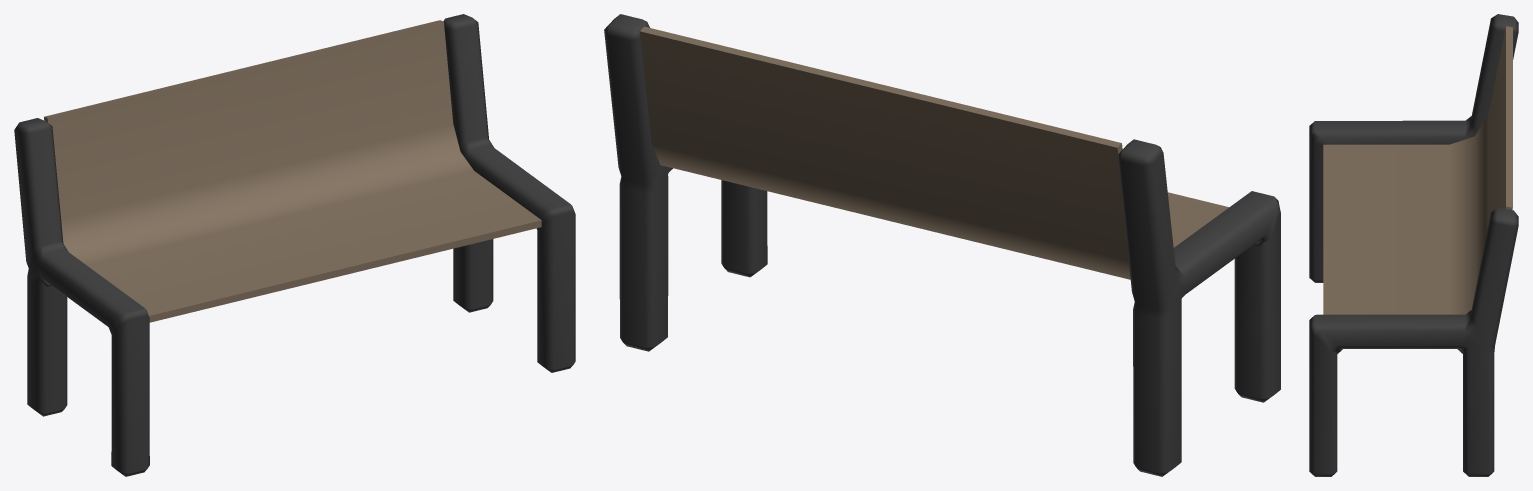
File: PS_Bench.fbx
3 views of the same model, side by side, from view 1: azimuth 30°, elevation 25°; view 2: azimuth 150°, elevation 25°; view 3: azimuth 270°, elevation 25° (orthographic). The views are drawn at different scales.
Parts seen in each view (by area): view 1: PS_Bench; view 2: PS_Bench; view 3: PS_Bench.
Part boxes in pixels (left/top/right/bottom): PS_Bench: left=14, top=14, right=575, bottom=476; PS_Bench: left=604, top=14, right=1280, bottom=476; PS_Bench: left=1309, top=14, right=1518, bottom=476.
Size of the model in its own units: 1.74 by 1.02 by 0.7416.
